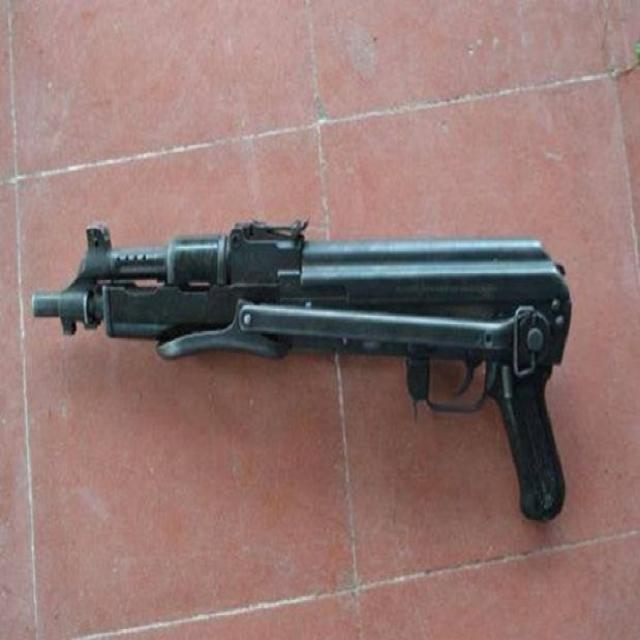firearm: (32, 223, 574, 524)
